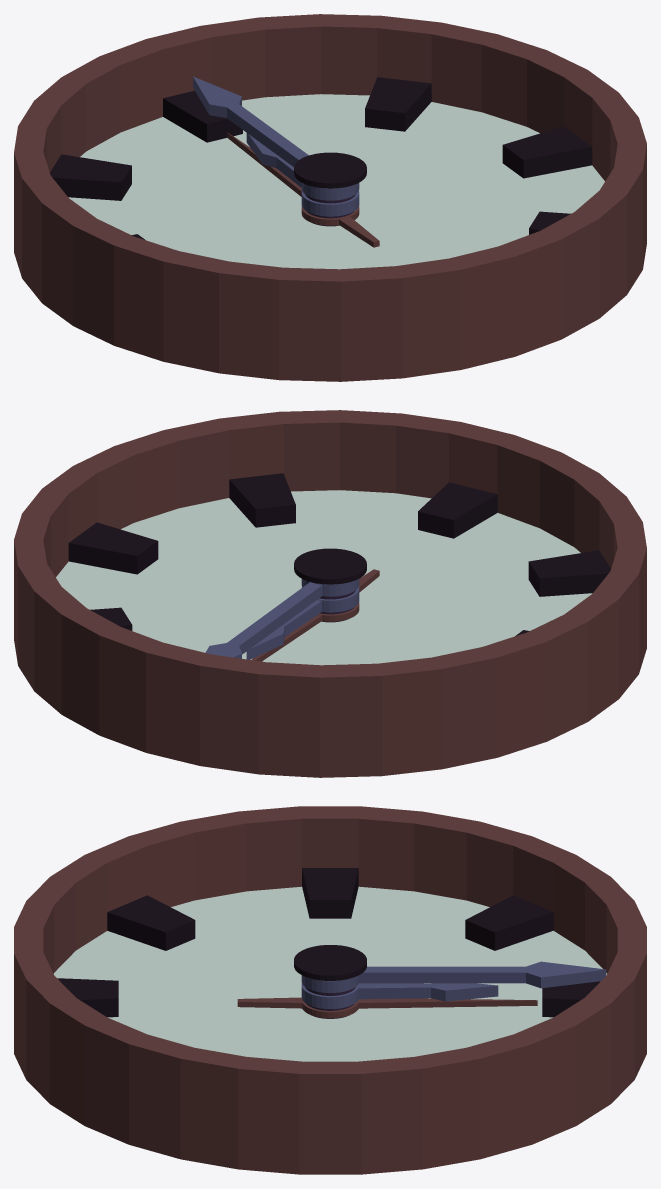
The model's file is level.fbx.
3 renders of one model, top to bottom at view 1: azimuth 30°, elevation 25°; view 2: azimuth 150°, elevation 25°; view 3: azimuth 270°, elevation 25°, orthographic.
Parts seen in each view (by area): view 1: Clock, Clock Hand Min, Clock Hand Seconds, Clock Hand Hours; view 2: Clock, Clock Hand Min, Clock Hand Hours, Clock Hand Seconds; view 3: Clock, Clock Hand Min, Clock Hand Hours, Clock Hand Seconds.
Part boxes in pixels (<box>): Clock: <box>14,14,646,381</box>; Clock Hand Min: <box>193,76,308,166</box>; Clock Hand Seconds: <box>227,132,379,247</box>; Clock Hand Hours: <box>246,133,301,187</box>; Clock: <box>14,410,646,777</box>; Clock Hand Min: <box>205,582,322,658</box>; Clock Hand Hours: <box>246,600,322,659</box>; Clock Hand Seconds: <box>251,569,379,661</box>; Clock: <box>14,806,646,1174</box>; Clock Hand Min: <box>358,961,606,988</box>; Clock Hand Hours: <box>358,983,498,1001</box>; Clock Hand Seconds: <box>237,997,537,1008</box>.
Size of the model in its own units: 19.9 by 3.49 by 19.9.
Materials: 1 (1 with a texture image).
